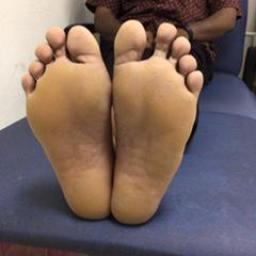Plantar View -Both Feet-: (14, 10, 208, 236)
